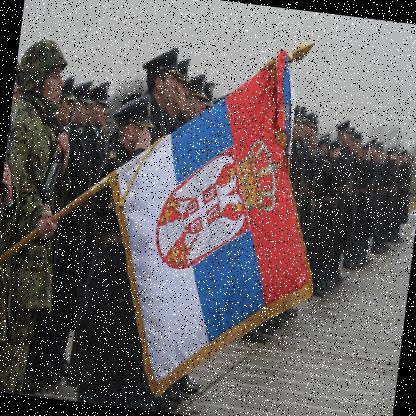rs: (82, 41, 341, 416)
